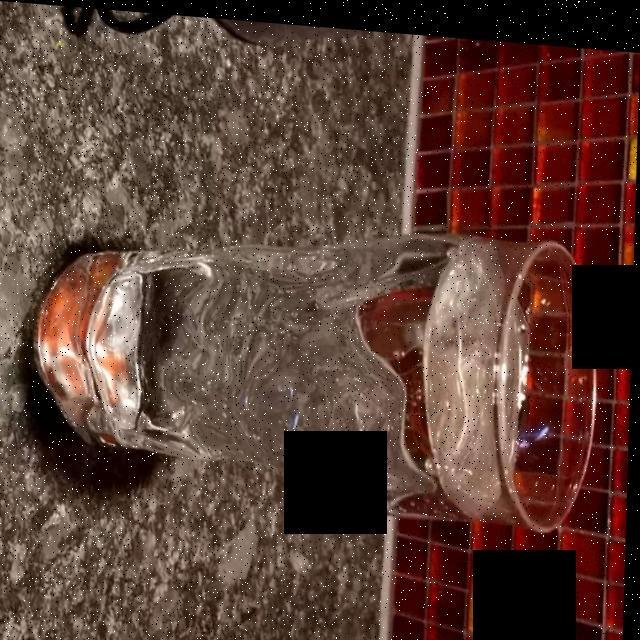water: (100, 230, 492, 500), (90, 233, 477, 487)
